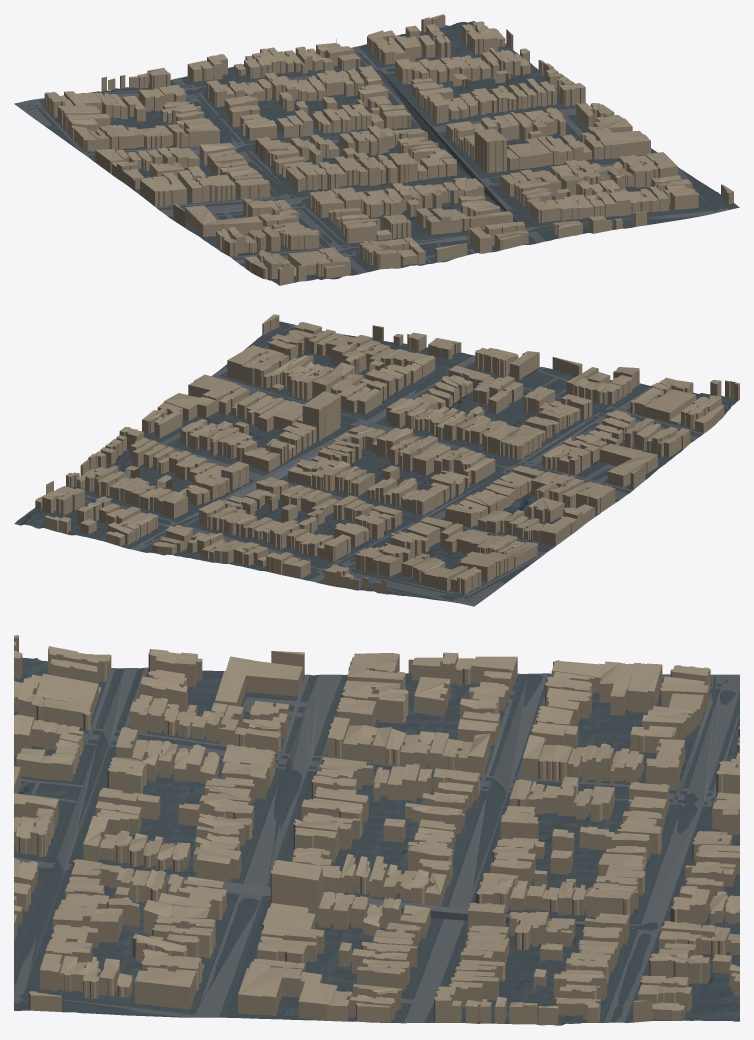
File: epsg26910-1429-10891.lod0.glb
3 renders of one model, top to bottom at view 1: azimuth 30°, elevation 25°; view 2: azimuth 150°, elevation 25°; view 3: azimuth 270°, elevation 25°, orthographic. The views are drawn at different scales.
Visible parts, largest first — view 1: epsg26910-1429-10891-lod0; view 2: epsg26910-1429-10891-lod0; view 3: epsg26910-1429-10891-lod0.
Part boxes in pixels (x1=…): epsg26910-1429-10891-lod0: x1=14, y1=14, x2=739, y2=285; epsg26910-1429-10891-lod0: x1=14, y1=314, x2=739, y2=606; epsg26910-1429-10891-lod0: x1=14, y1=635, x2=739, y2=1025.
Bounding box in the file's own units: 384 × 48.89 × 384.
